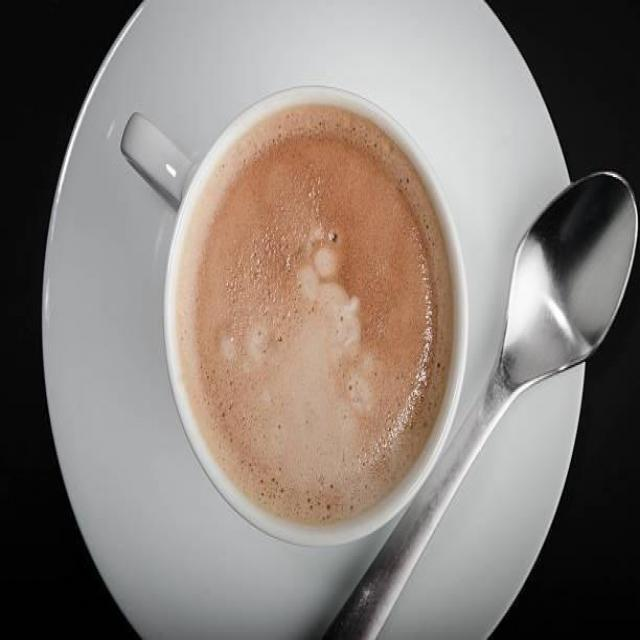cup-handle: (120, 82, 472, 553)
